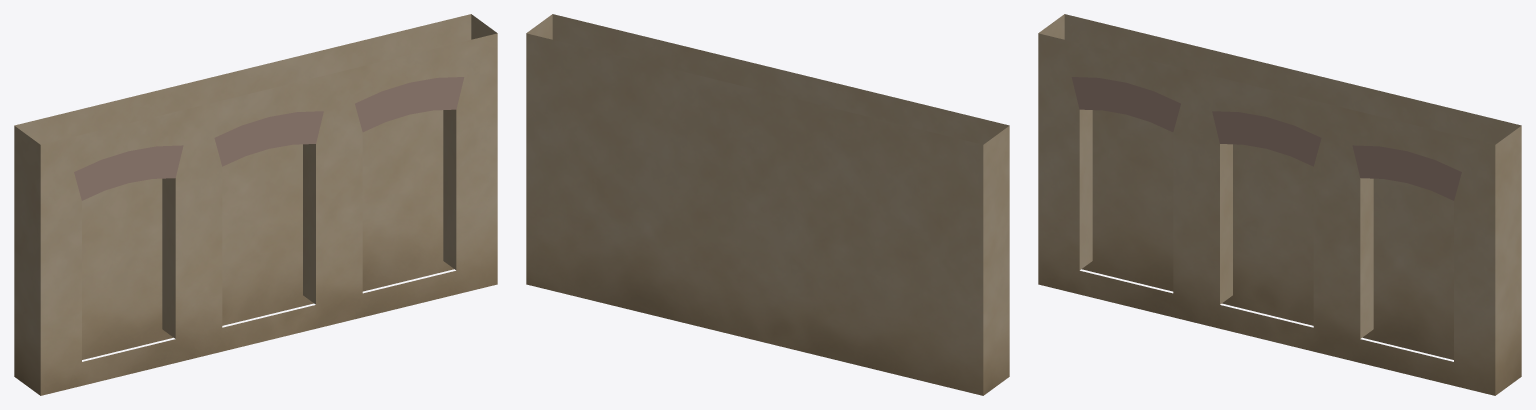
File: WallUpperA01.fbx
The picture shows the model from 3 angles, left to right: view 1: azimuth 30°, elevation 25°; view 2: azimuth 150°, elevation 25°; view 3: azimuth 330°, elevation 25°; orthographic projection.
Visible parts, largest first — view 1: WallUpperA01, BrickArchA02, BrickArchA01, BrickArchA03; view 2: WallUpperA01; view 3: WallUpperA01, BrickArchA03, BrickArchA02, BrickArchA01.
Boxes of the visible parts, bbox=[...] form: WallUpperA01: bbox=[14, 14, 497, 395]; BrickArchA02: bbox=[214, 111, 323, 166]; BrickArchA01: bbox=[74, 145, 183, 200]; BrickArchA03: bbox=[355, 77, 464, 132]; WallUpperA01: bbox=[526, 14, 1009, 395]; WallUpperA01: bbox=[1038, 14, 1521, 395]; BrickArchA03: bbox=[1352, 145, 1461, 200]; BrickArchA02: bbox=[1212, 111, 1321, 166]; BrickArchA01: bbox=[1071, 77, 1180, 132].
Bounding box in the file's own units: 6.1 × 3.2 × 0.6096.
